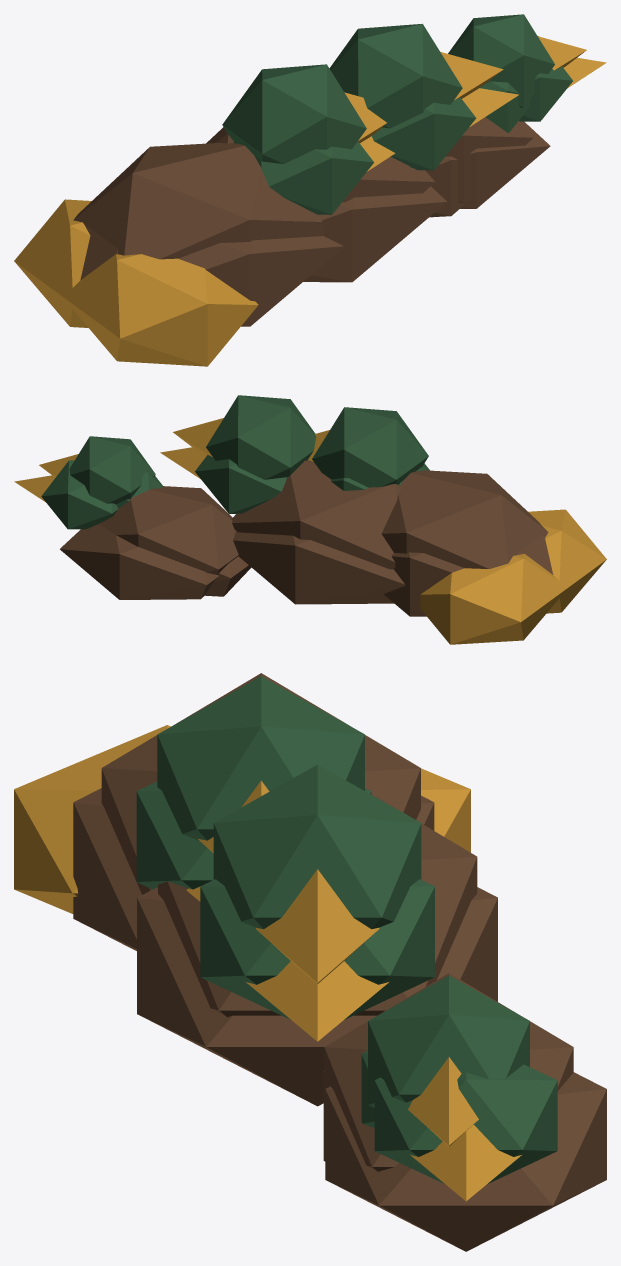
Rendered from ducks.41cc4803763d.glb.
3 views of the same model, one above another, from view 1: azimuth 30°, elevation 25°; view 2: azimuth 150°, elevation 25°; view 3: azimuth 270°, elevation 25° (orthographic). The views are drawn at different scales.
Parts seen in each view (by area): view 1: brown-duck__near, duckling-group__near, brown-duck__far, duckling-group__far, mallard-pair__near; view 2: brown-duck__near, duckling-group__near, brown-duck__far, duckling-group__far, mallard-pair__near; view 3: duckling-group__near, brown-duck__near, brown-duck__far, duckling-group__far, mallard-pair__near.
Part boxes in pixels (box(x1,y1,x2,y2)): brown-duck__near: box(14, 14, 586, 327); duckling-group__near: box(61, 36, 606, 366); brown-duck__far: box(206, 23, 503, 202); duckling-group__far: box(303, 88, 518, 282); mallard-pair__near: box(425, 81, 529, 217); brown-duck__near: box(39, 407, 568, 644); duckling-group__near: box(14, 460, 606, 616); brown-duck__far: box(173, 395, 401, 569); duckling-group__far: box(160, 447, 405, 604); mallard-pair__near: box(116, 471, 251, 596); duckling-group__near: box(14, 725, 606, 1251); brown-duck__near: box(101, 673, 573, 1171); brown-duck__far: box(158, 764, 477, 1017); duckling-group__far: box(137, 879, 497, 1106); mallard-pair__near: box(323, 1050, 374, 1161).
Bounding box in the file's own units: 0.5997 × 0.2054 × 0.3157.
